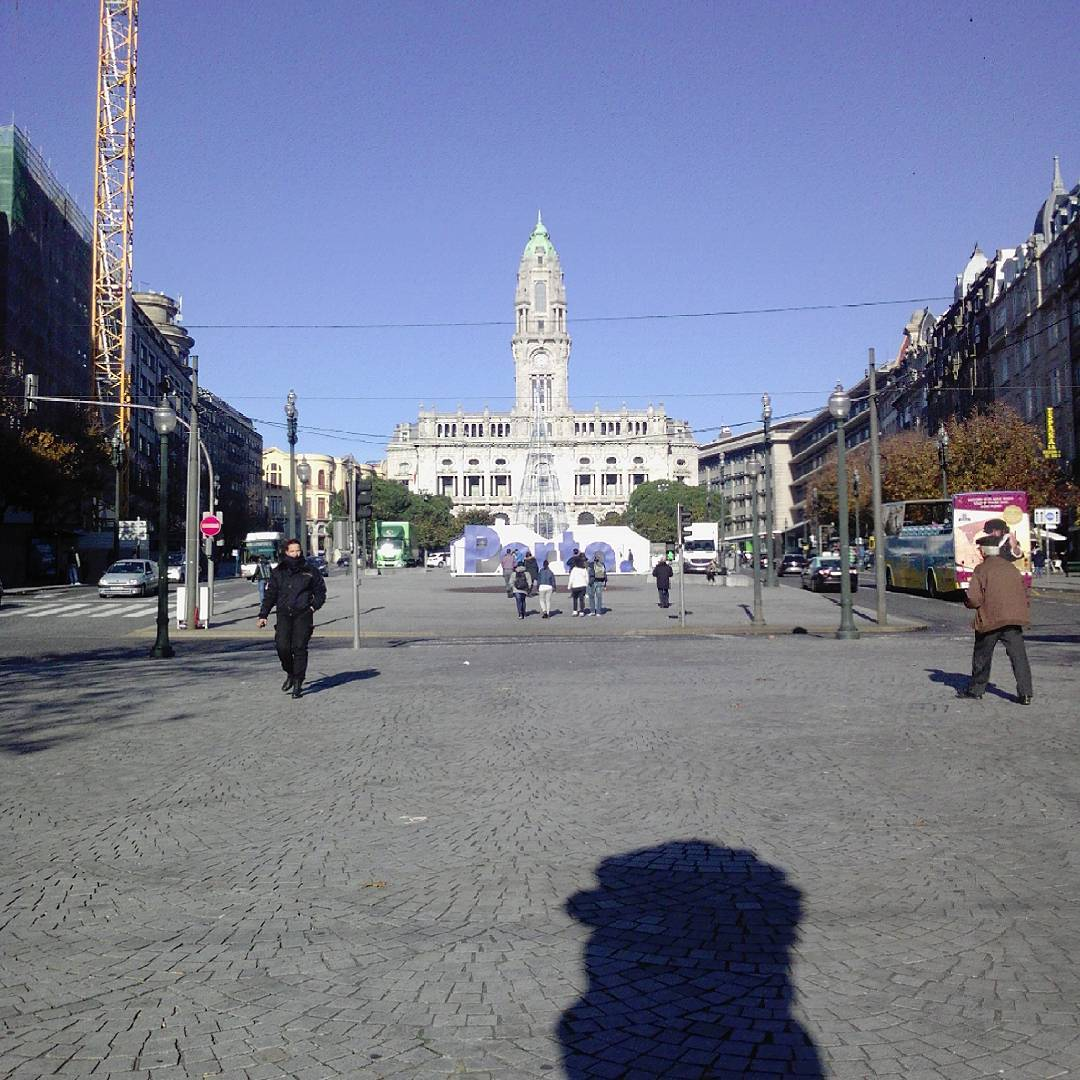camara: (382, 216, 702, 525)
